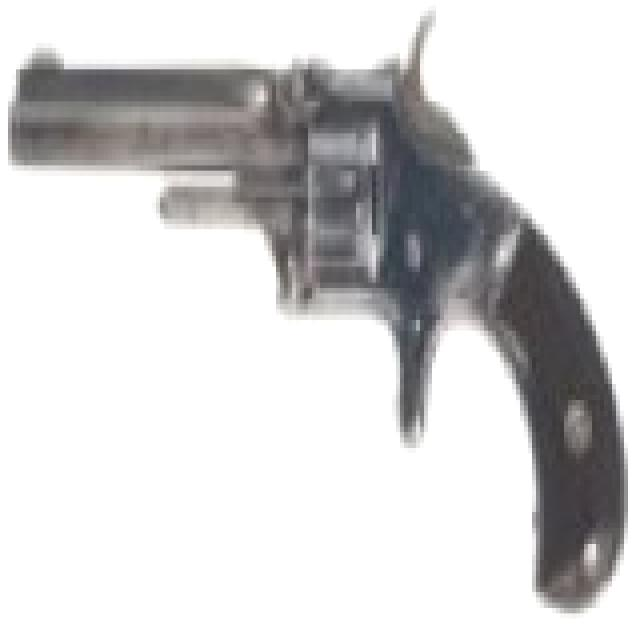pistol: (4, 0, 616, 597)
